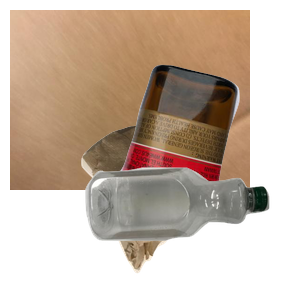cardboard: (10, 10, 250, 190)
glass: (113, 62, 300, 242)
plastic: (83, 165, 300, 300)
trash: (79, 123, 281, 300)
